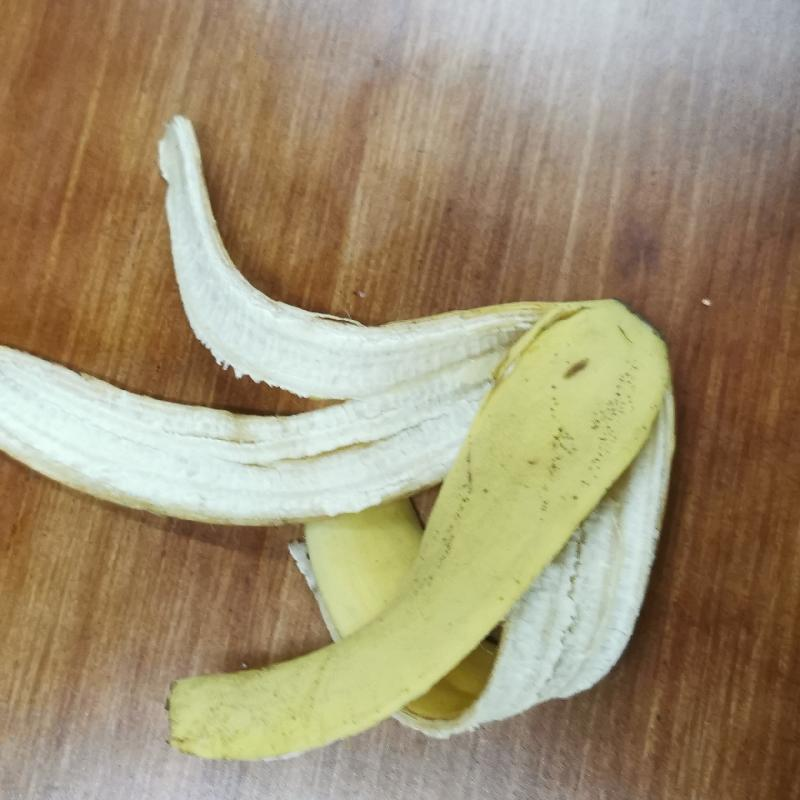bananas: (5, 116, 678, 759)
